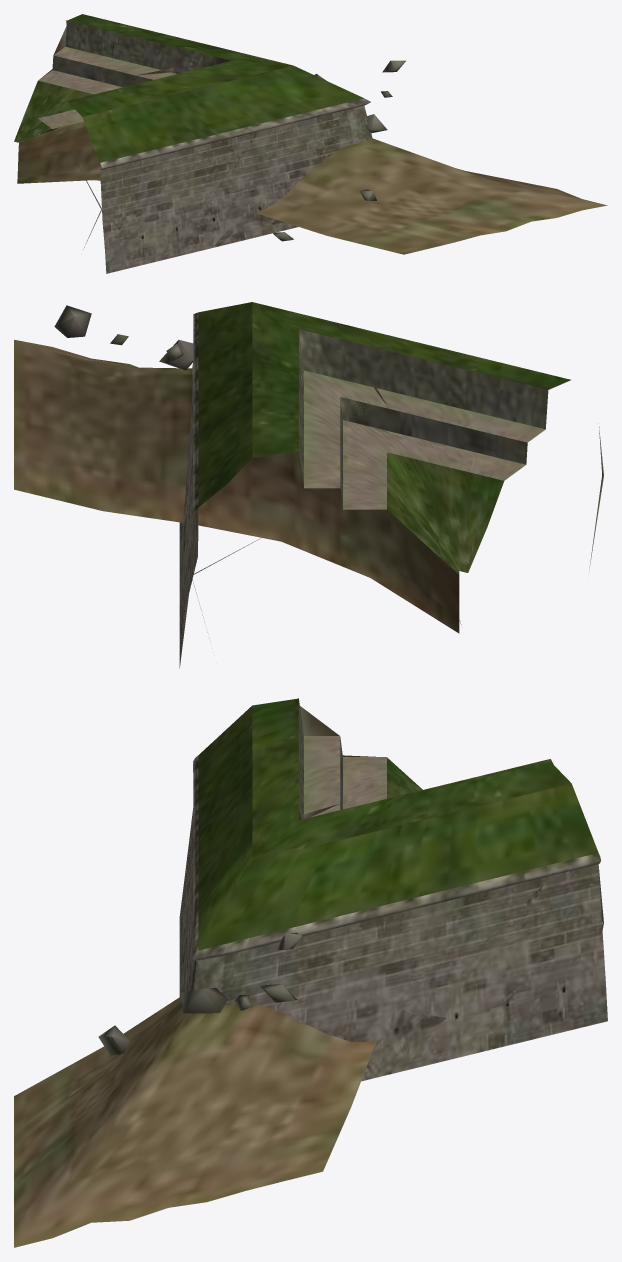
Rendered from starfort_ravelin_salient_live.glb.
The picture shows the model from 3 angles, top to bottom: view 1: azimuth 30°, elevation 25°; view 2: azimuth 150°, elevation 25°; view 3: azimuth 270°, elevation 25°; orthographic projection. The views are drawn at different scales.
Visible parts, largest first — view 1: intact, breached, cracked; view 2: breached, intact, cracked; view 3: intact, breached, cracked.
Part boxes in pixels (x1,y1,x2,y2): intact: (16,14,372,270); breached: (14,15,607,273); cracked: (15,14,370,247); breached: (14,305,569,667); intact: (179,302,570,657); cracked: (179,302,570,643); intact: (179,699,603,1049); breached: (14,699,607,1247); cracked: (179,698,599,1081).
Size of what is drawn, in the model's own units: 15.13 by 4.71 by 11.47.
Materials: 1 (1 with a texture image).
